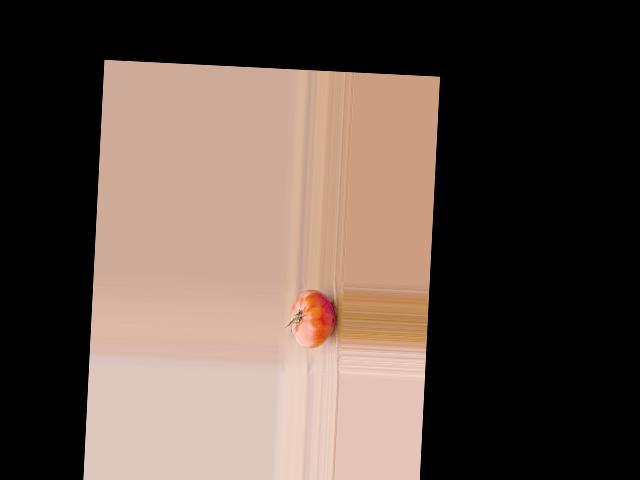tomato: (289, 289, 336, 350)
